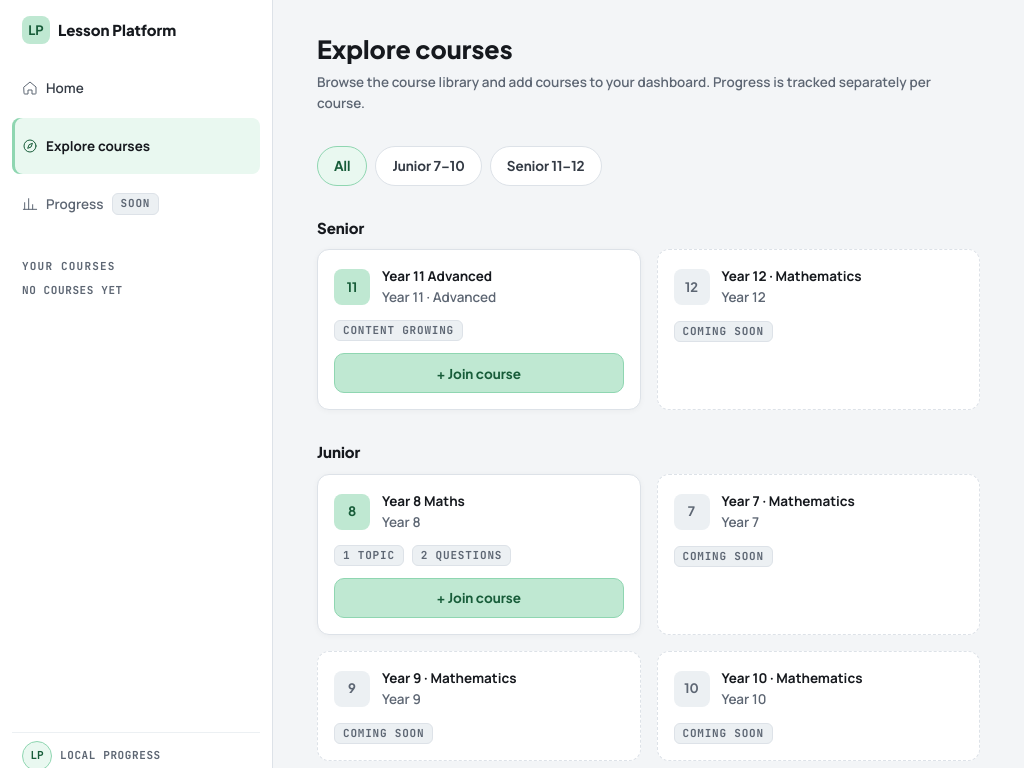
Test: Explore courses (/explore) › filter pills narrow the groups
The image size is (1024, 768).
What coordinates should you click on to do the following:
click the button "Senior 11–12"
I would click on:
 (546, 166)
Its box is [490,146,602,186].
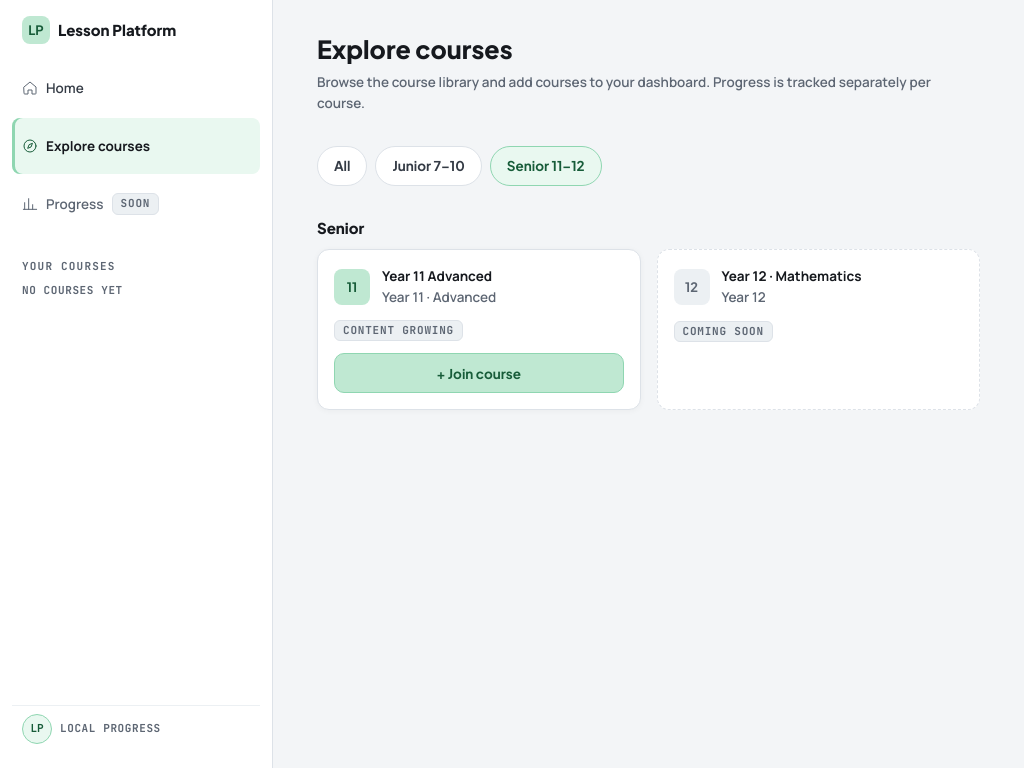
Check: the element named "Senior courses" is shown, box [317,218,980,410]
What coordinates should you click on to do the following:
click the button "Junior 7–10"
I would click on:
 (429, 166)
Its box is [375,146,482,186].
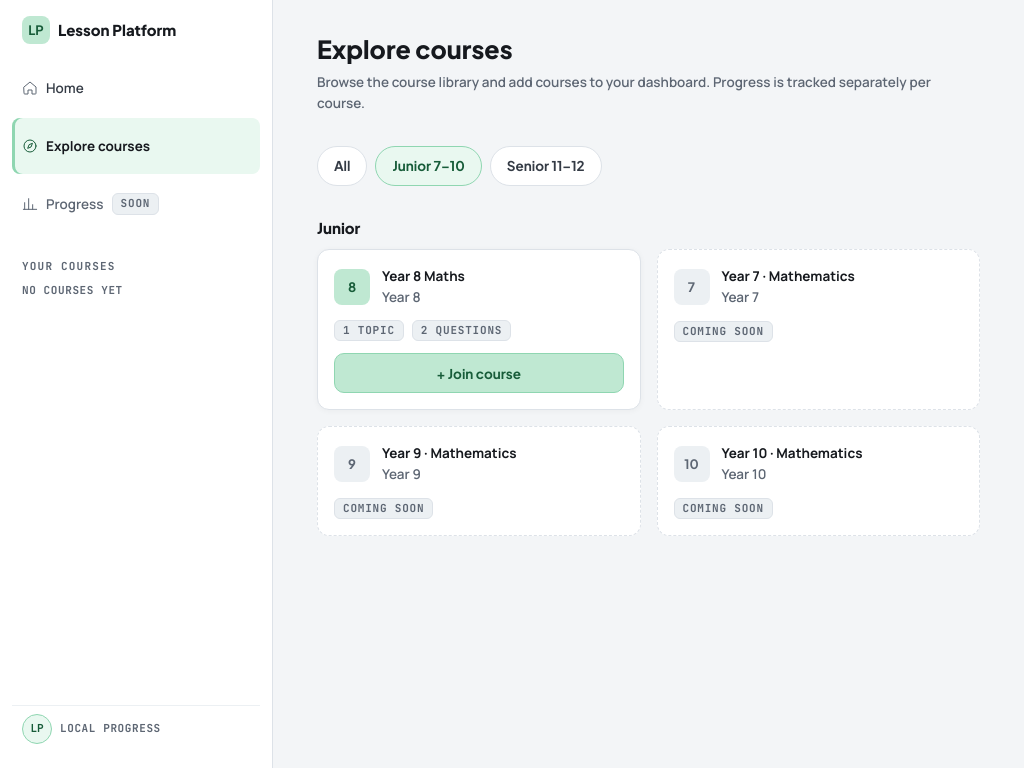
Check: the element named "Junior courses" is shown, box [317,218,980,536]
